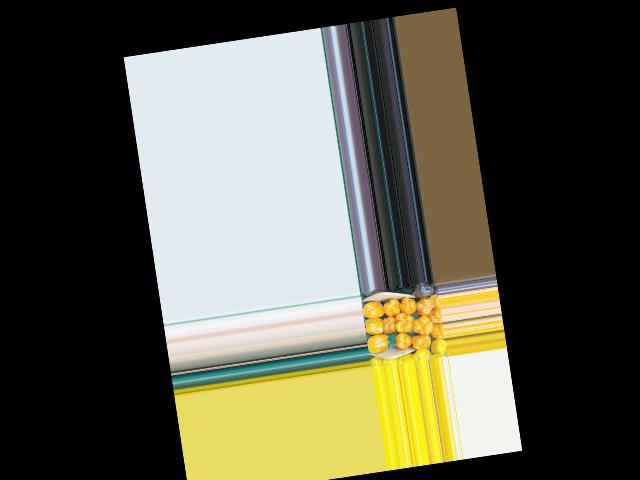bell_pepper: (409, 348, 432, 361)
